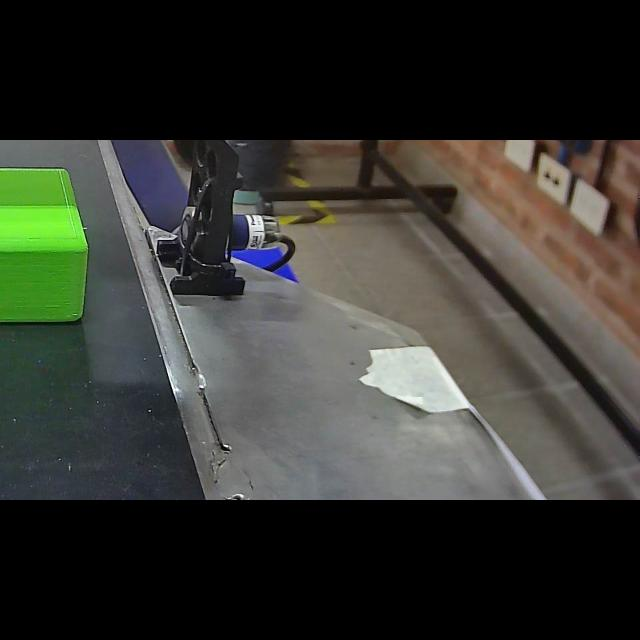greenBox: (0, 162, 98, 330)
